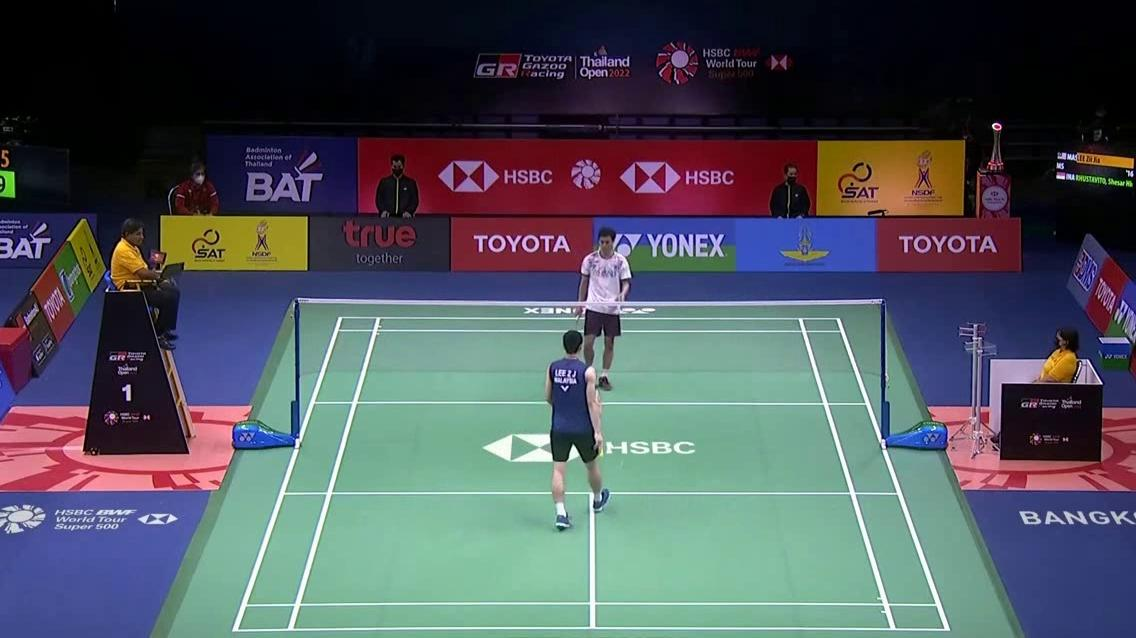racket: (558, 308, 581, 364)
shuttle: (607, 443, 613, 448)
